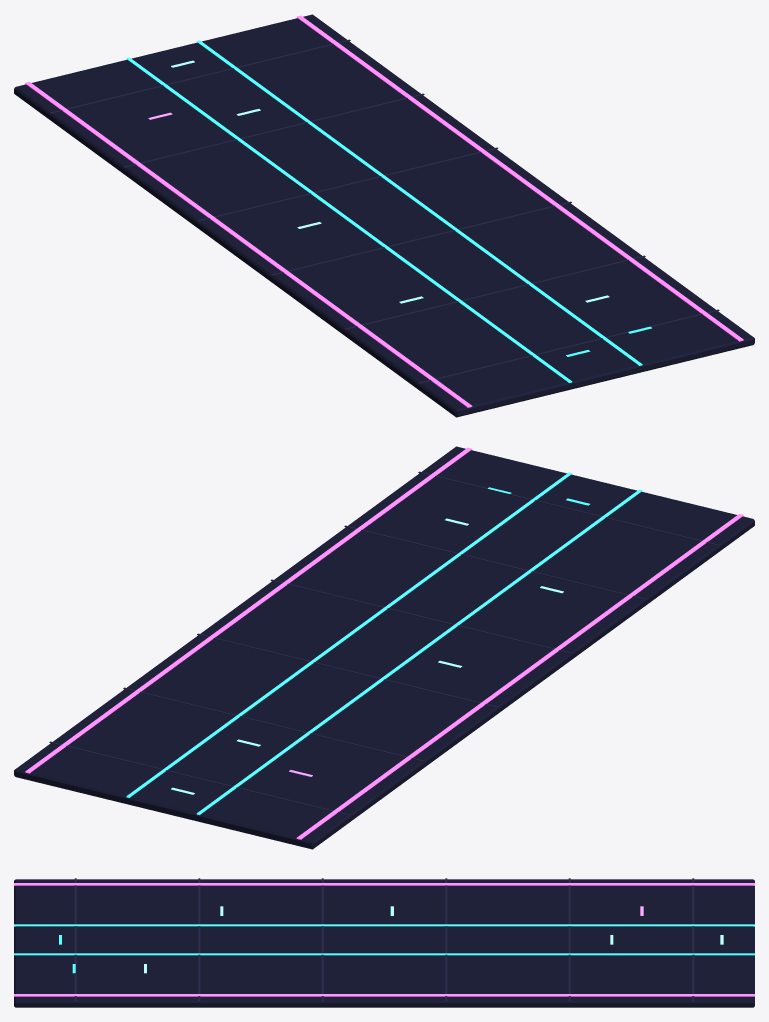
Rendered from hd_rd_neon.gltf.
3 views of the same model, one above another, from view 1: azimuth 30°, elevation 25°; view 2: azimuth 150°, elevation 25°; view 3: azimuth 270°, elevation 25° (orthographic). The views are drawn at different scales.
Visible parts, largest first — view 1: deck, edge0, edge1, guide1, guide0; view 2: deck, edge0, edge1, guide1, guide0; view 3: deck, edge0, edge1, guide0, guide1, seam1, seam2, seam3, seam4, seam5, seam0.
Boxes of the visible parts, left/top/right/bottom form: deck: left=14, top=14, right=754, bottom=417; edge0: left=25, top=82, right=472, bottom=407; edge1: left=296, top=15, right=743, bottom=341; guide1: left=196, top=40, right=642, bottom=365; guide0: left=126, top=57, right=572, bottom=382; deck: left=14, top=446, right=754, bottom=849; edge0: left=296, top=514, right=743, bottom=839; edge1: left=25, top=447, right=472, bottom=773; guide1: left=126, top=472, right=572, bottom=797; guide0: left=196, top=489, right=642, bottom=814; deck: left=14, top=879, right=754, bottom=1007; edge0: left=14, top=883, right=754, bottom=885; edge1: left=14, top=994, right=754, bottom=996; guide0: left=14, top=924, right=754, bottom=926; guide1: left=14, top=953, right=754, bottom=955; seam1: left=198, top=878, right=200, bottom=1001; seam2: left=321, top=878, right=323, bottom=1001; seam3: left=445, top=878, right=447, bottom=1001; seam4: left=568, top=878, right=570, bottom=1001; seam5: left=692, top=878, right=694, bottom=1001; seam0: left=74, top=878, right=76, bottom=1001.
Bounding box in the file's own units: 9.4 × 0.264 × 24.
